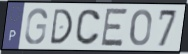7: (157, 8, 178, 48)
C: (74, 8, 102, 47)
D: (49, 8, 74, 46)
E: (99, 7, 130, 48)
G: (23, 7, 49, 46)
O: (129, 8, 153, 48)
